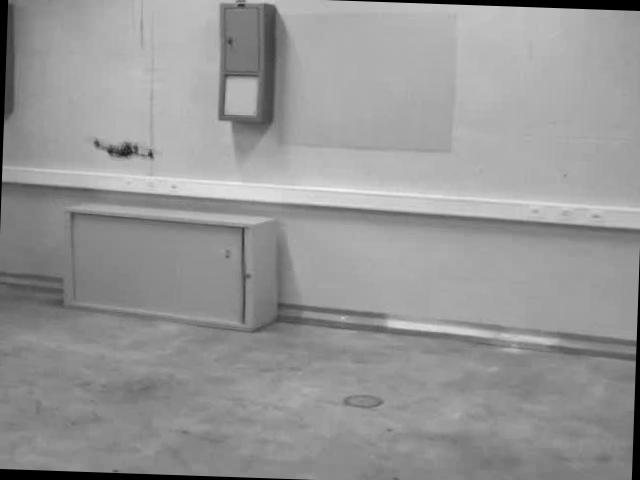drone: (88, 132, 158, 164)
